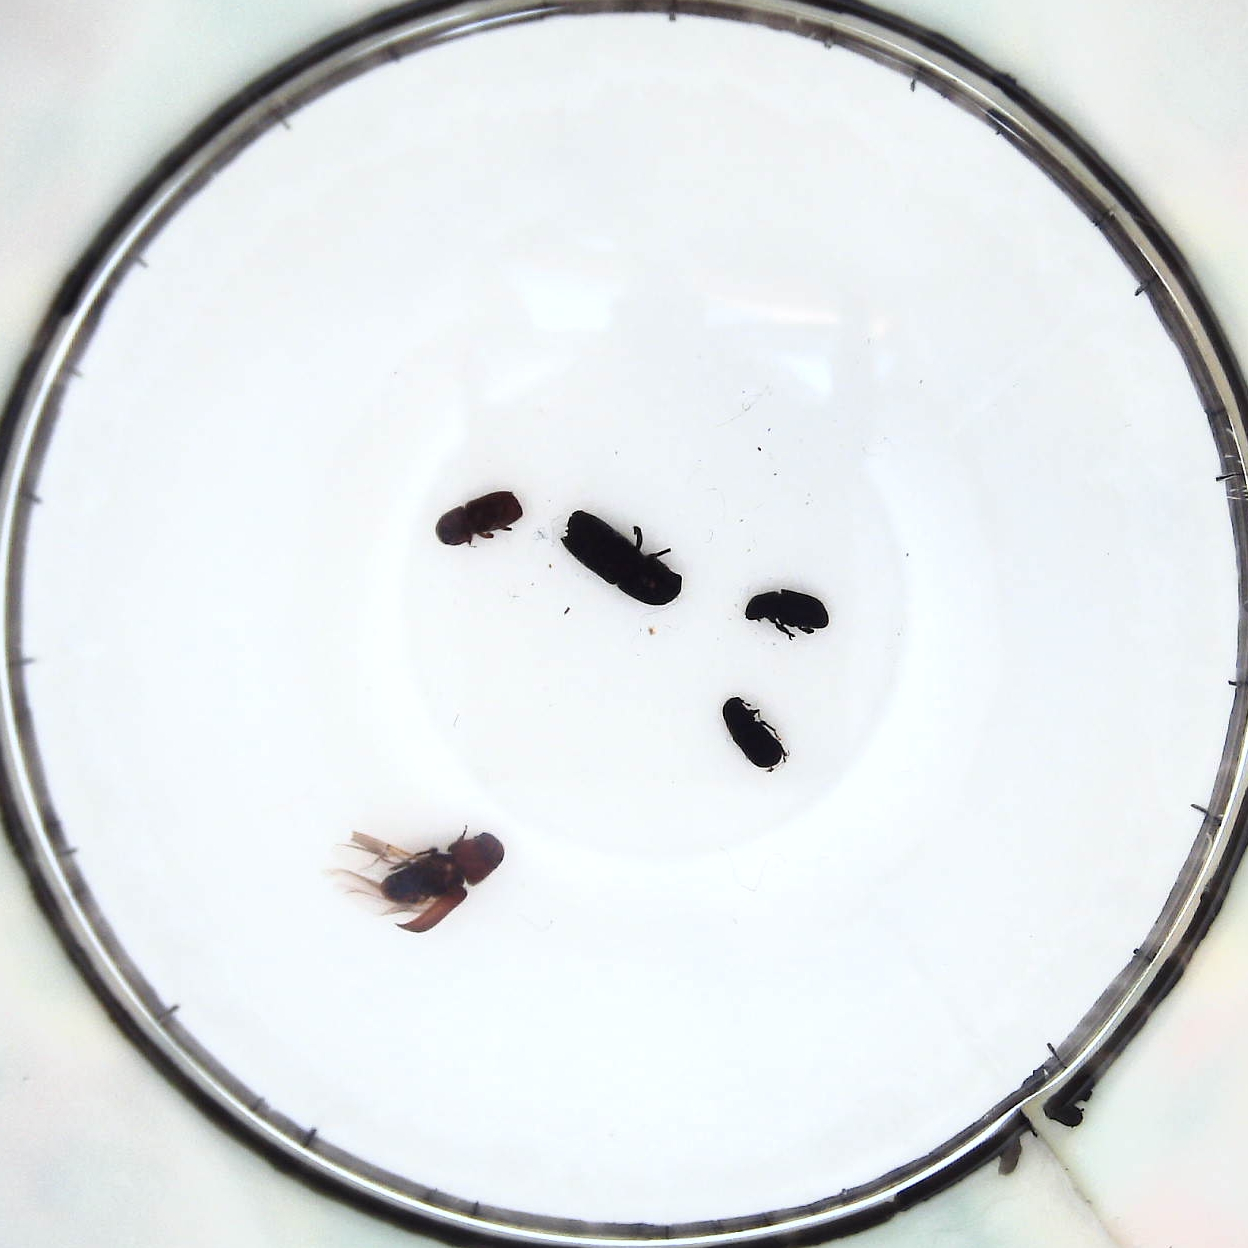Boerner: (565, 505, 683, 607)
Leconte: (343, 819, 504, 927)
Linnaeus: (435, 485, 518, 551)
armandi: (718, 690, 793, 775), (741, 585, 835, 635)
